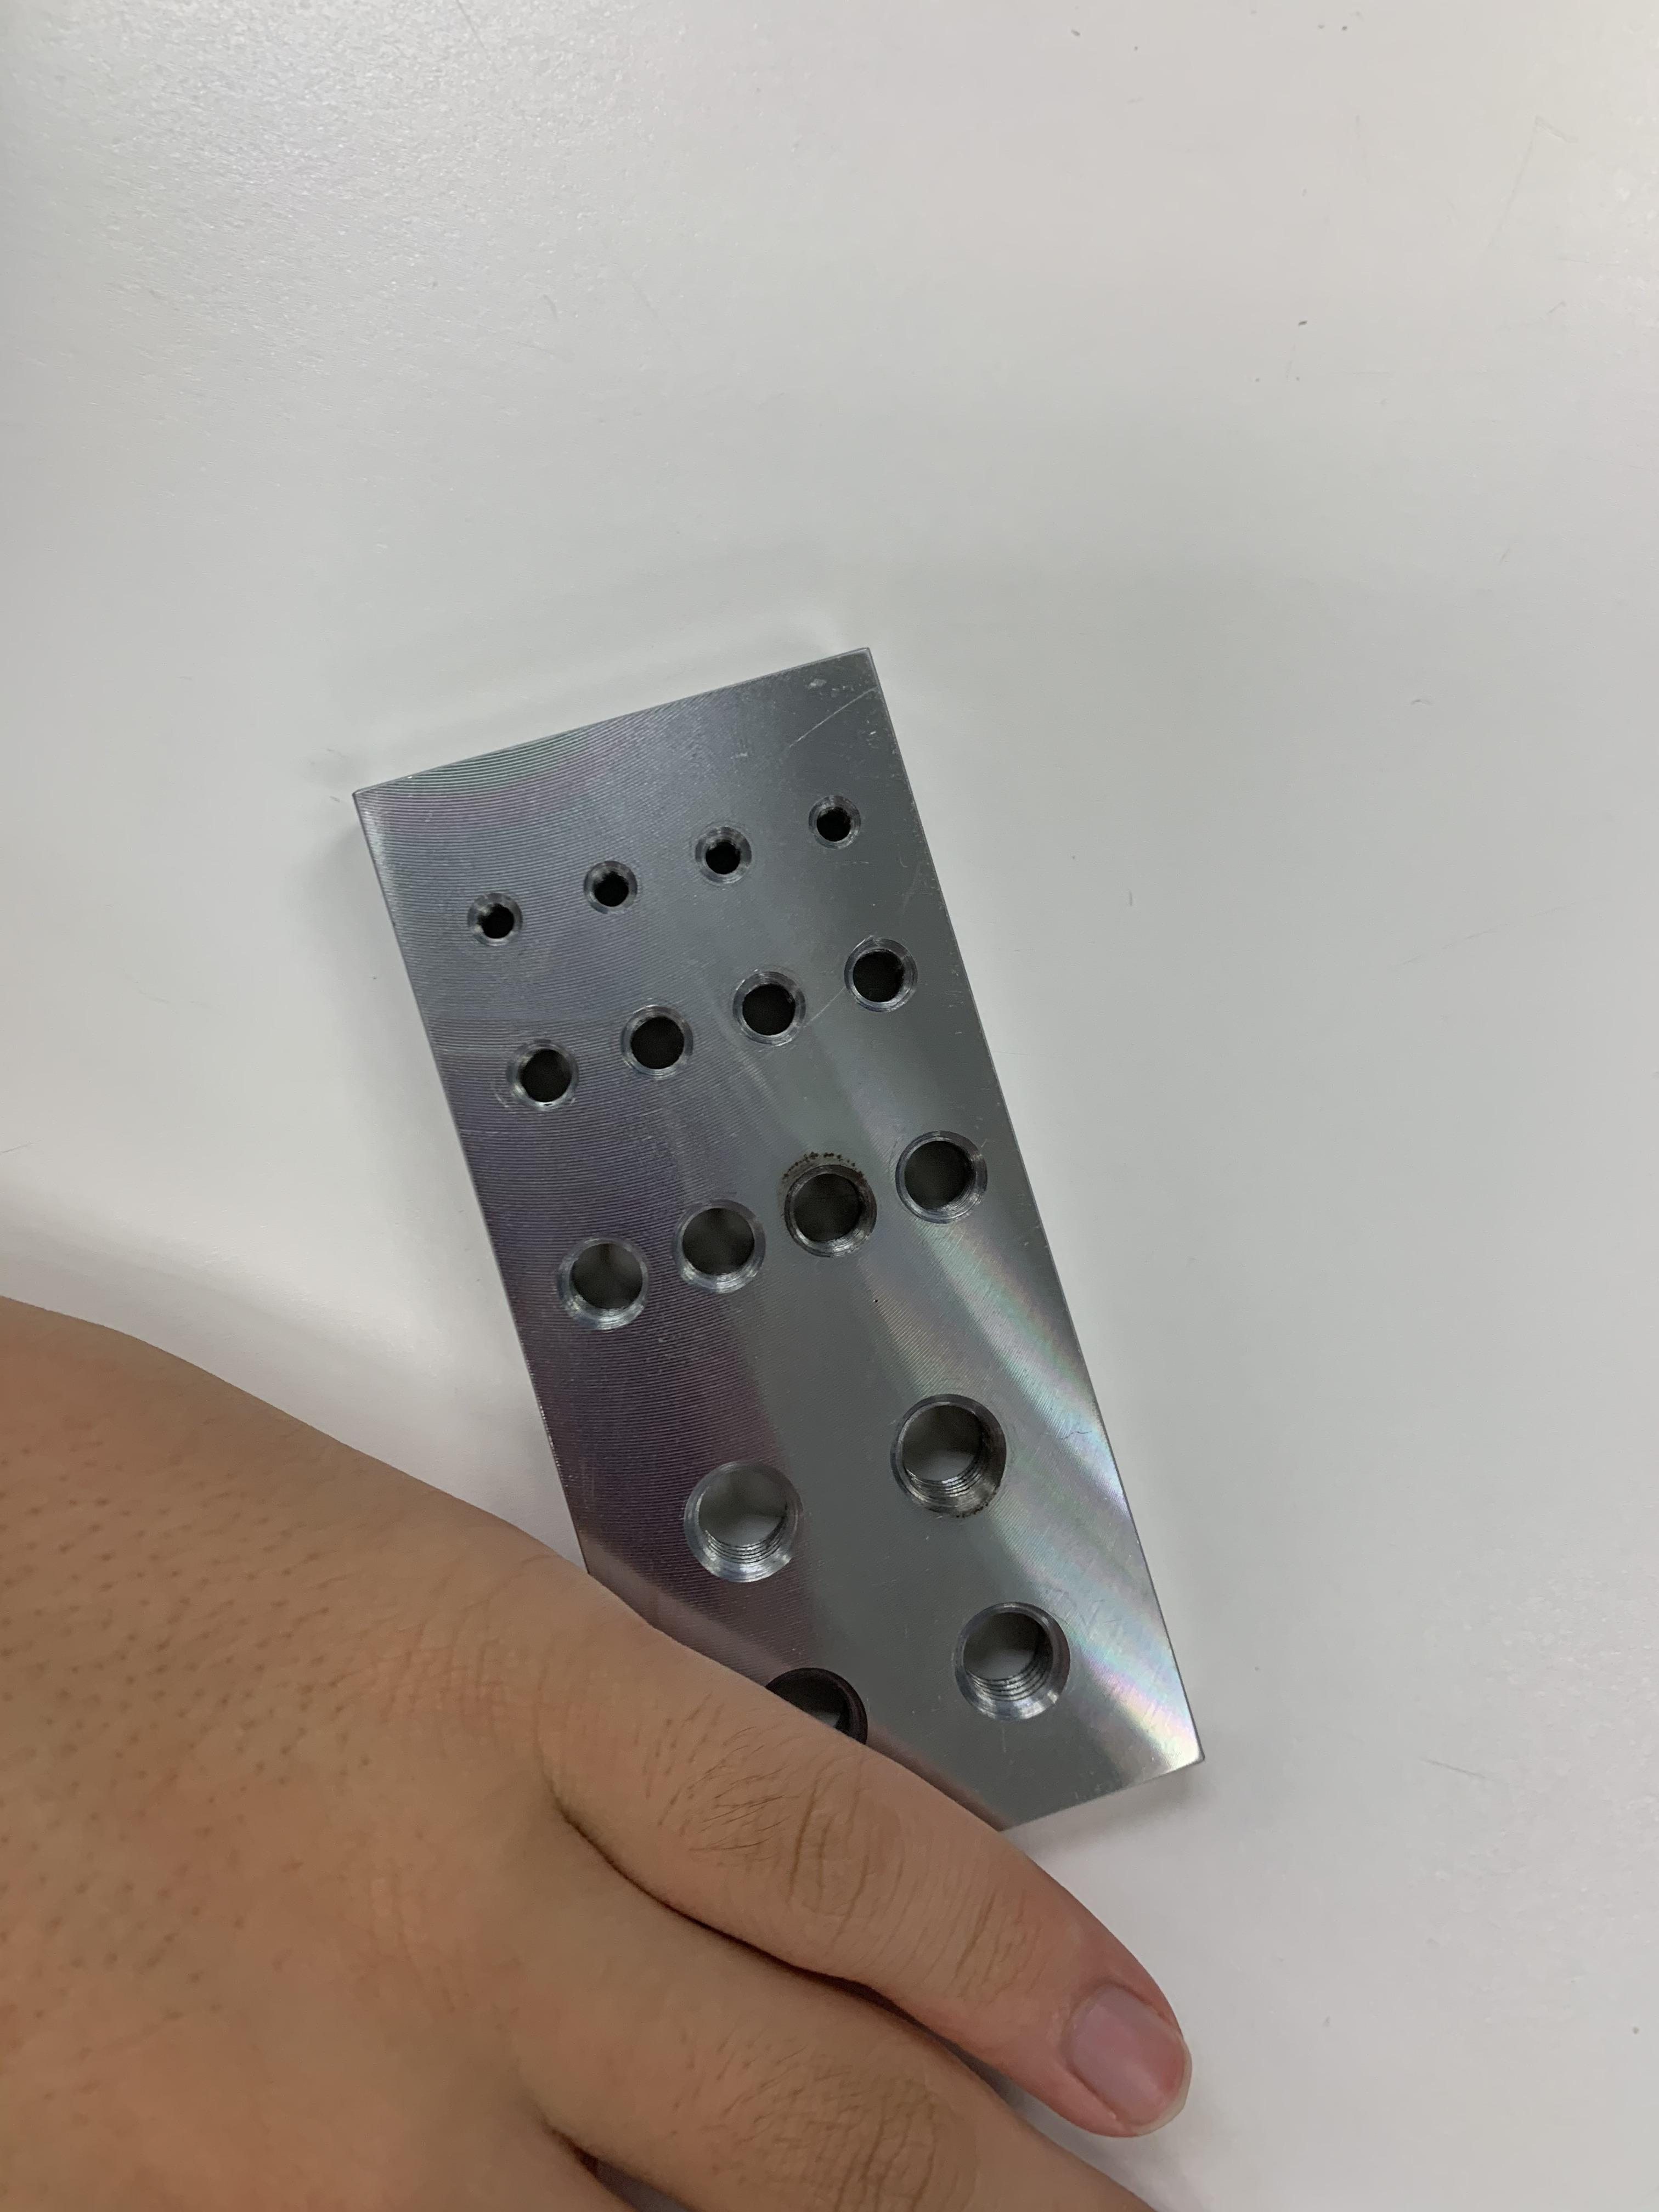hole: (857, 1360, 1042, 1538), (653, 1432, 831, 1609), (927, 1594, 1100, 1738), (544, 1207, 671, 1366), (765, 1146, 901, 1275), (877, 1109, 999, 1245), (664, 1170, 777, 1315), (488, 1005, 594, 1137), (824, 914, 929, 1040), (610, 995, 711, 1108), (721, 951, 819, 1064), (446, 862, 533, 972), (796, 768, 885, 871), (566, 840, 660, 935), (683, 803, 769, 907)
